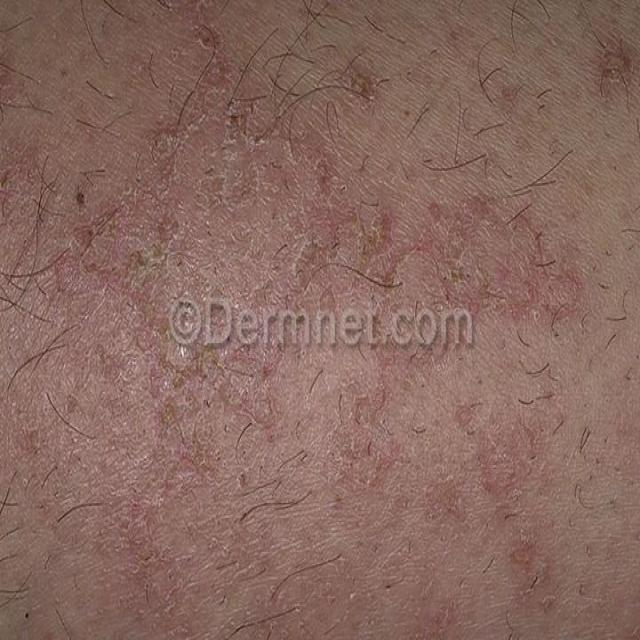Eczema: (91, 68, 494, 529)
